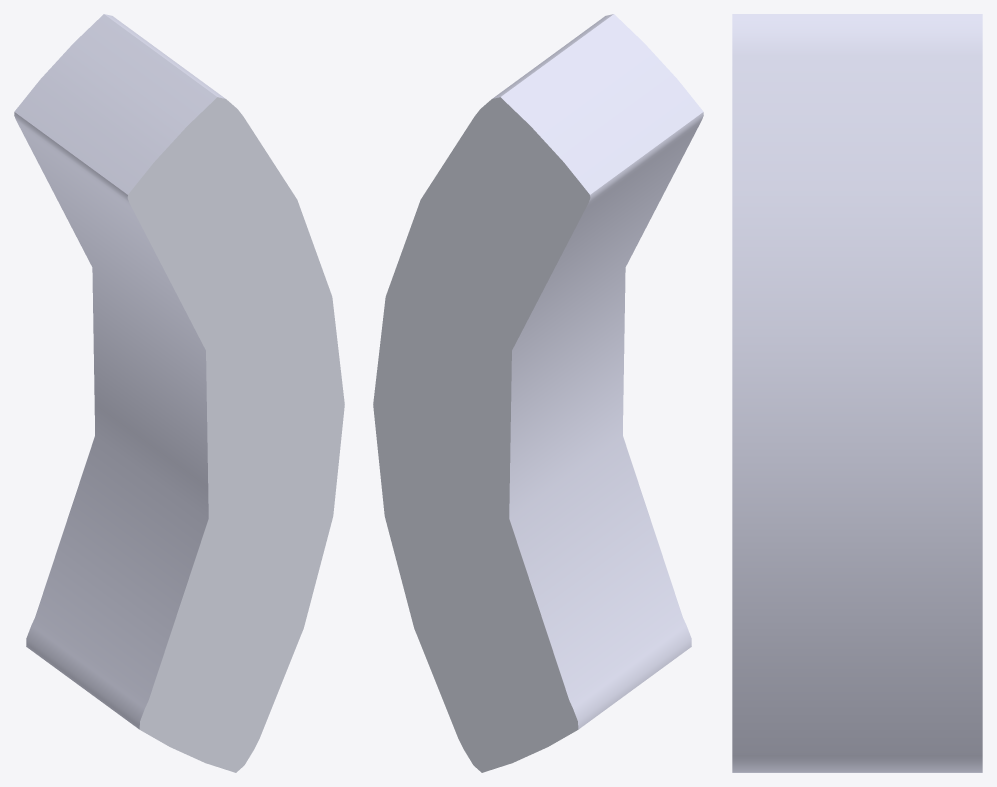
File: 8bdf9835-8e75-4d74-a227-82208fa6cf8d.glb
3 views of the same model, side by side, from view 1: azimuth 30°, elevation 25°; view 2: azimuth 150°, elevation 25°; view 3: azimuth 270°, elevation 25° (orthographic). The views are drawn at different scales.
Visible parts, largest first — view 1: symbol)_Zyzol_Grey; view 2: symbol)_Zyzol_Grey; view 3: symbol)_Zyzol_Grey.
Part boxes in pixels (x1,y1,x2,y2): symbol)_Zyzol_Grey: (14,14,344,772); symbol)_Zyzol_Grey: (373,14,703,772); symbol)_Zyzol_Grey: (732,14,982,772).
Size of what is drawn, in the model's own units: 0.0497 by 0.1487 by 0.045.
Materials: 2 (2 with a texture image).
